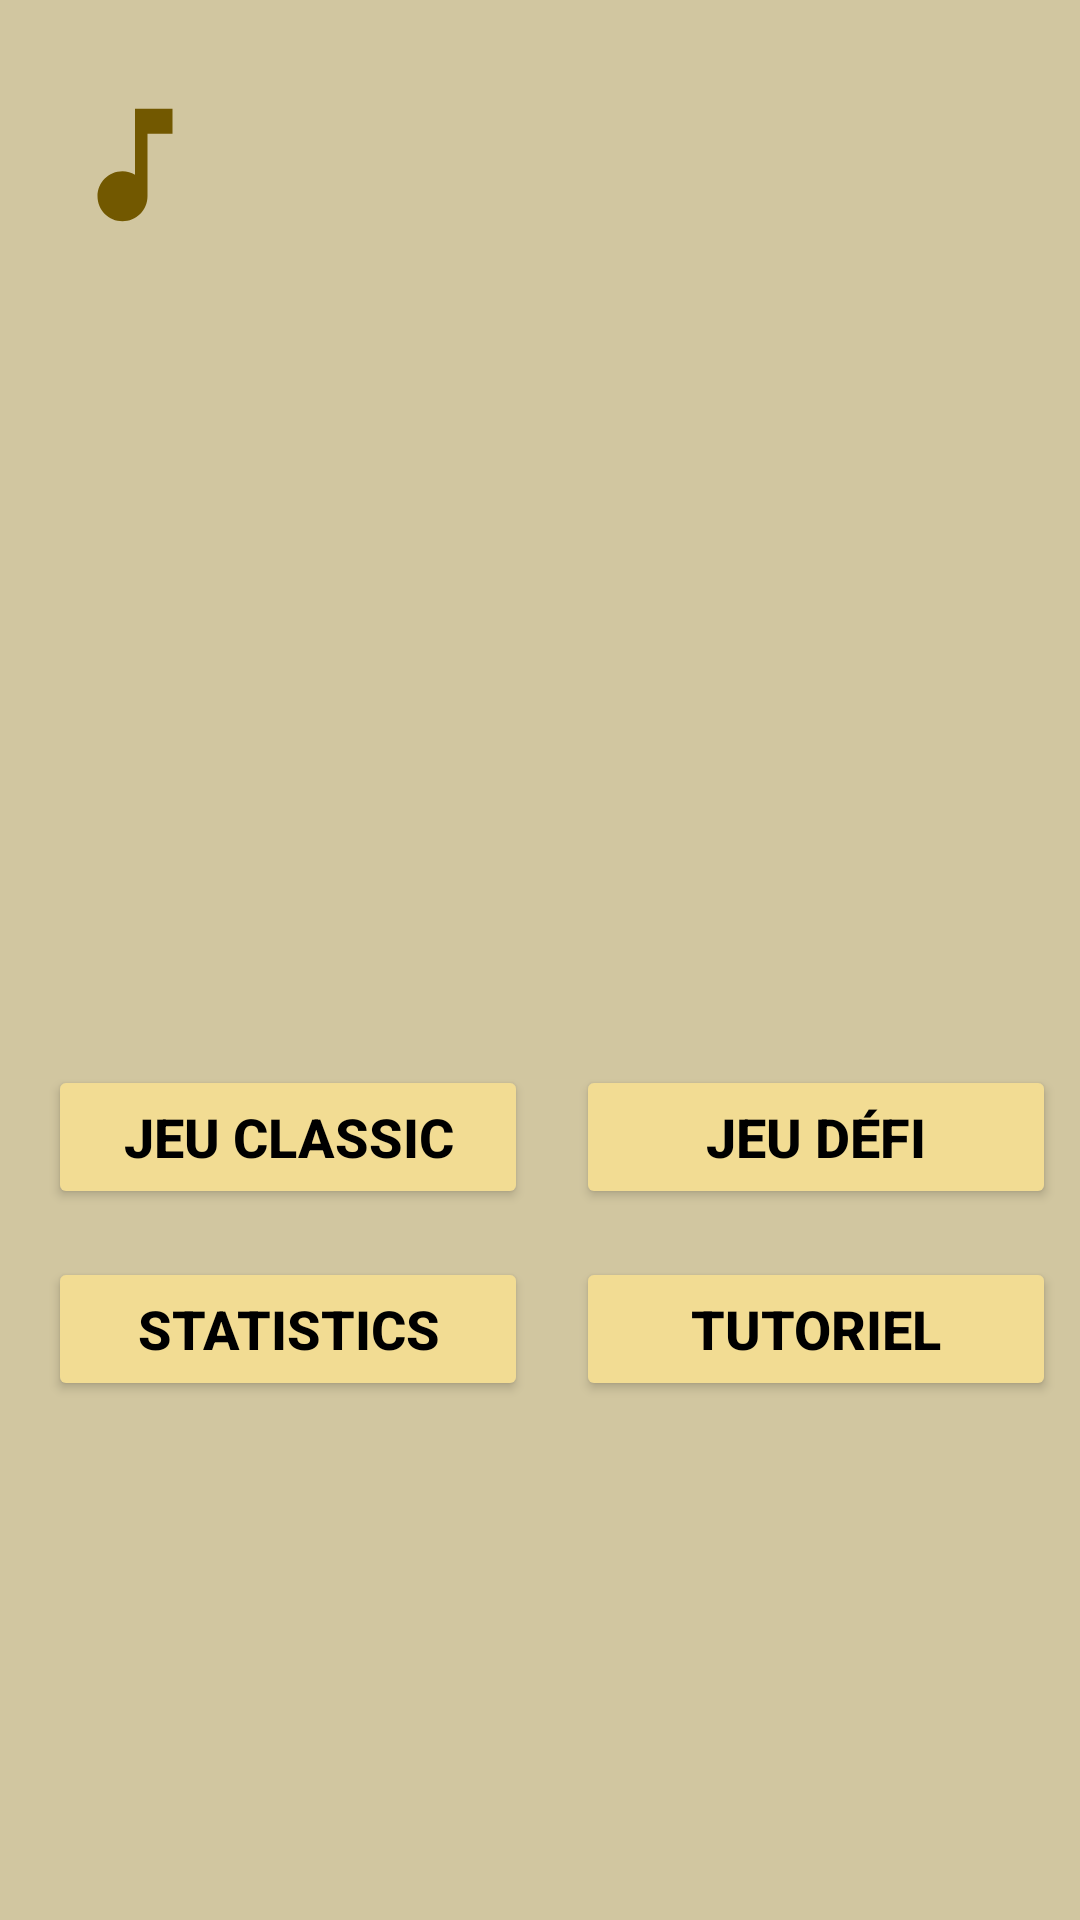

Where icons sit on this 1080×1920 app screen, as (x1, y1, x2, y2):
music note: (97, 108, 173, 222)
